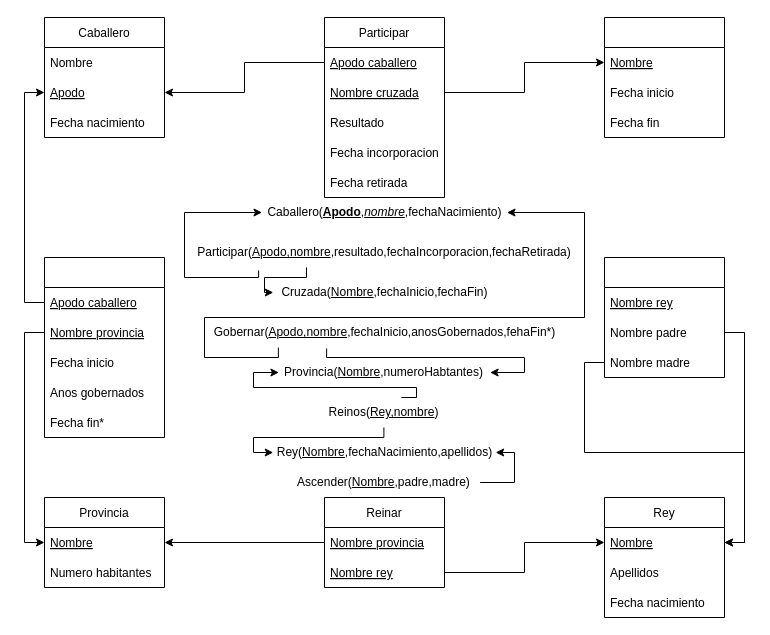
Some shapes in this 770 by 635 pixel diagram are drawn without their labels. The shapes that lost their labels are listed below. From the top down, each one's box as (x1, y1, x2, y2) in pixels, then its label:
(604, 16, 724, 138): Cruzada
(604, 256, 724, 378): Ascender
(44, 256, 164, 438): Gobernar
